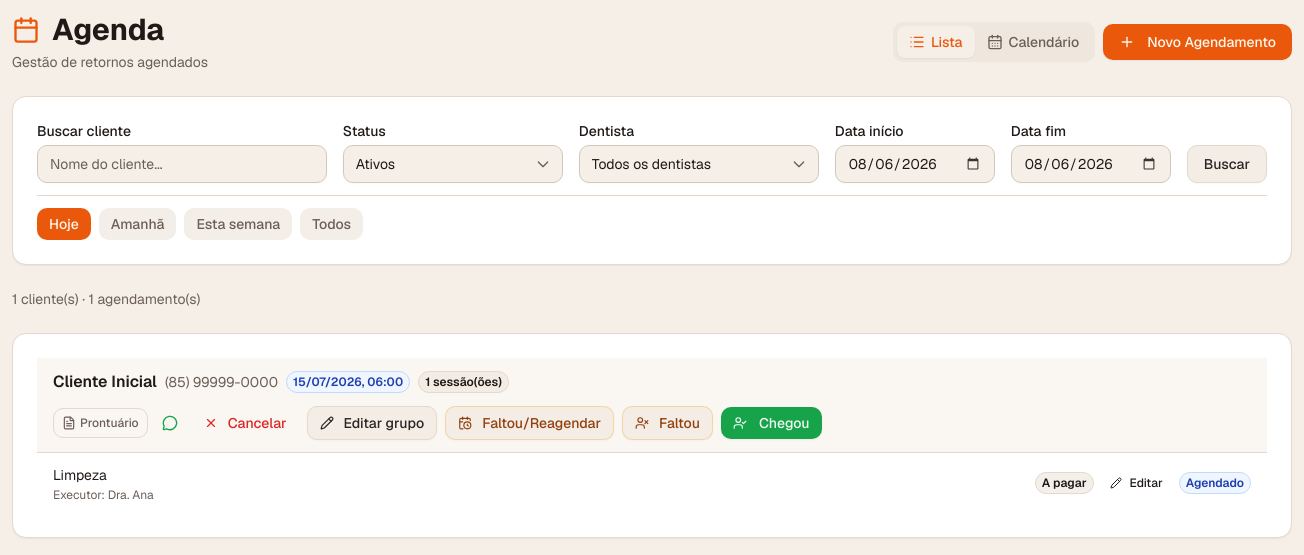
it: AgendaPage › não recarrega a agenda nem perde foco enquanto digita na busca
Check: the text "Cliente Inicial" is shown, box [53, 370, 157, 394]
In the search field labelled "Buscar cliente": [182, 164] box [37, 145, 327, 183], type "Maria"
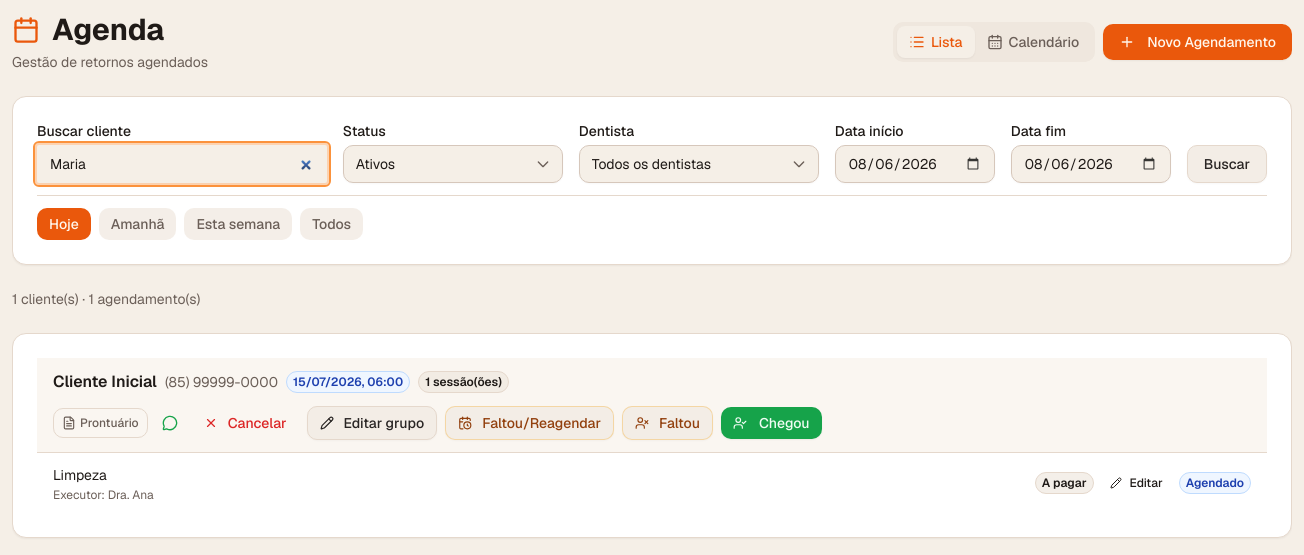
Click the button "Buscar": [1227, 164] box [1187, 145, 1267, 183]
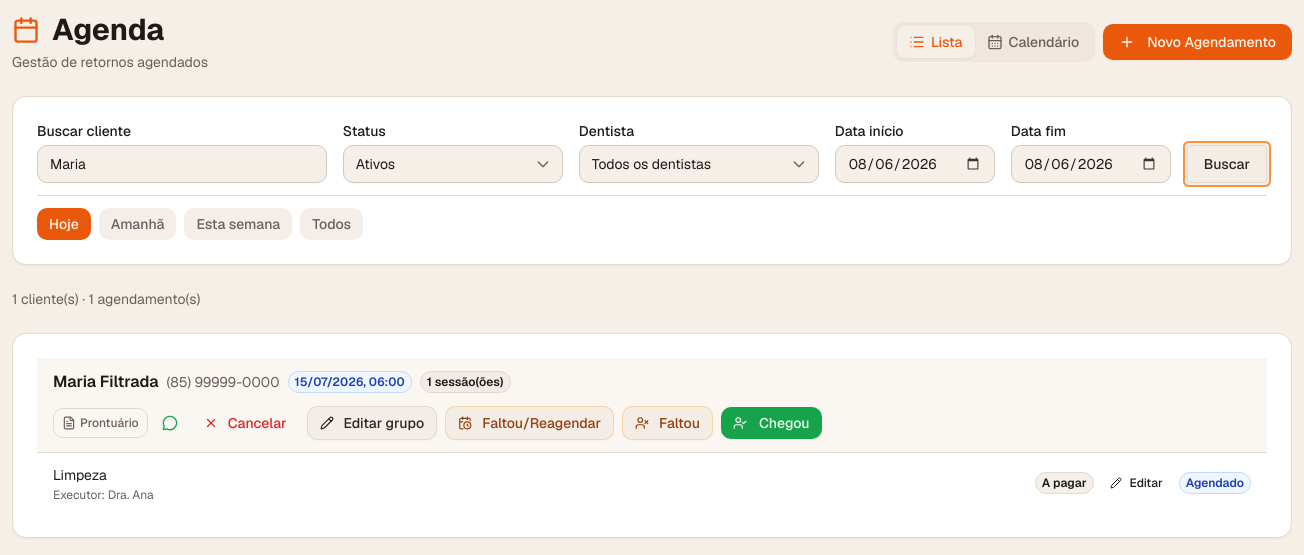
Check: the text "Maria Filtrada" is shown, box [53, 370, 158, 394]
